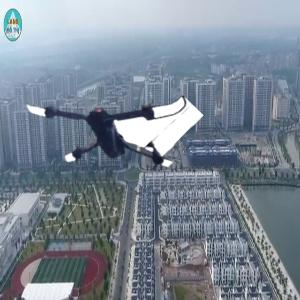drone: (30, 50, 182, 202)
